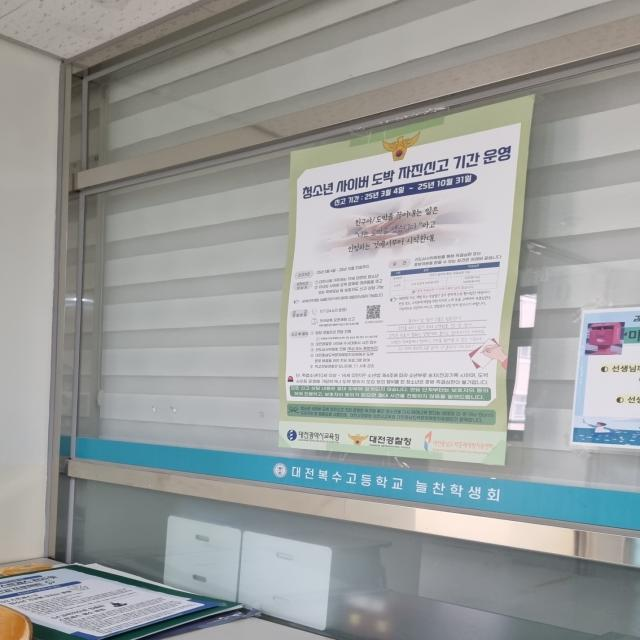logo: (272, 462, 289, 480)
